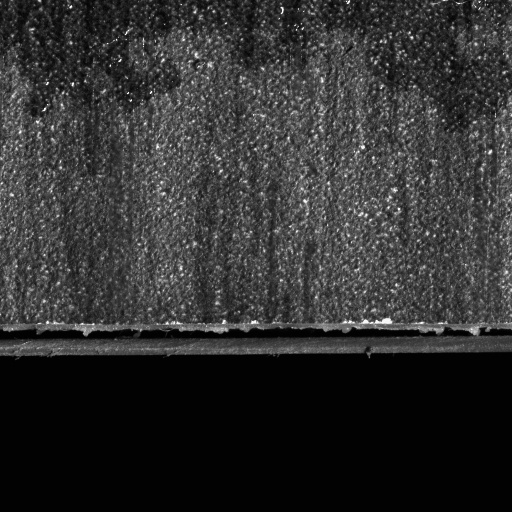kaijiao: (0, 313, 511, 359)
